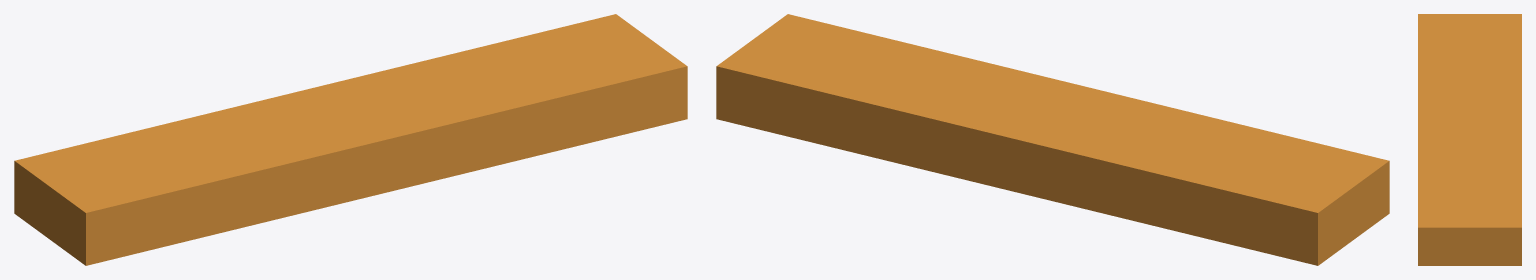
The model's file is ceilinglight.fbx.
The picture shows the model from 3 angles, left to right: view 1: azimuth 30°, elevation 25°; view 2: azimuth 150°, elevation 25°; view 3: azimuth 270°, elevation 25°; orthographic projection. The views are drawn at different scales.
Visible parts, largest first — view 1: Ceiling light 1; view 2: Ceiling light 1; view 3: Ceiling light 1.
Part boxes in pixels (<box>): Ceiling light 1: <box>14,14,687,265</box>; Ceiling light 1: <box>716,14,1389,265</box>; Ceiling light 1: <box>1418,14,1521,265</box>.
Bounding box in the file's own units: 91.92 × 7.73 × 18.9.
